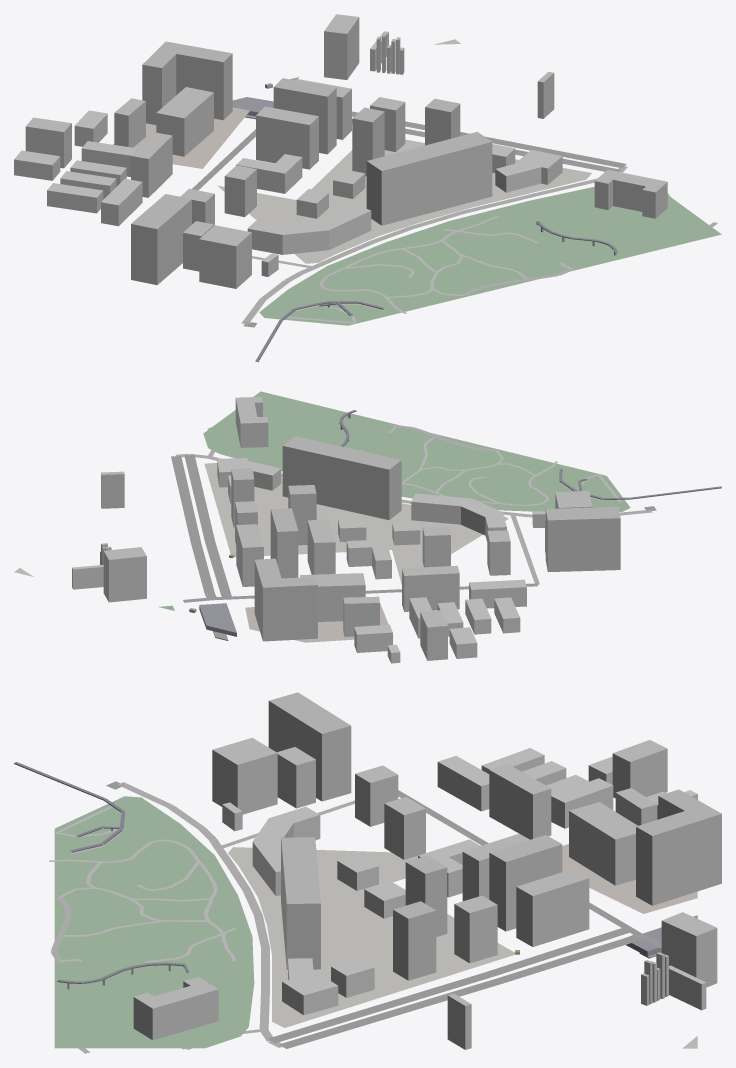
The picture shows the model from 3 angles, top to bottom: view 1: azimuth 30°, elevation 25°; view 2: azimuth 150°, elevation 25°; view 3: azimuth 270°, elevation 25°; orthographic projection. The views are drawn at different scales.
Size of the model in its own units: 540 by 79.22 by 551.
